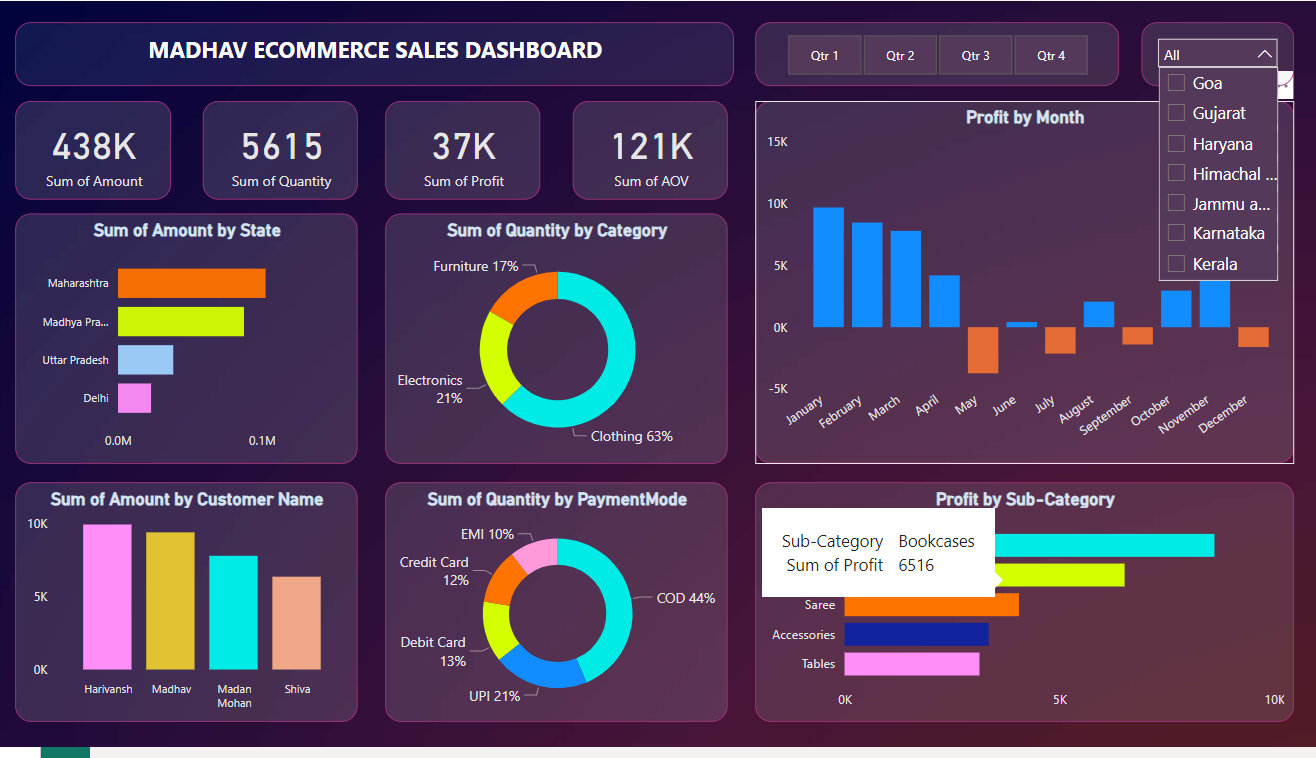

Layout of this report page (visuals, bound fields, positions):
{"tool":"powerbi","page":{"name":"Page 1","canvas":[1280,720],"ordinal":0},"visuals":[{"type":"textbox","box":[20.5,20.5,693.5,61.5],"z":0},{"type":"columnChart","title":"Profit by Month","fields":{"Category":["Orders.Order Date.Variation.Date Hierarchy.Month"],"Y":["Details.Profit"]},"box":[734.5,96.5,519.8,349.7],"z":1000},{"type":"barChart","title":"Profit by Sub-Category","fields":{"Category":["Details.Sub-Category"],"Y":["Details.Profit"]},"box":[734.5,464.3,519.8,231.6],"z":2000},{"type":"donutChart","fields":{"Category":["Details.Category"],"Y":["Details.Quantity"]},"box":[377.5,205,330.5,241.2],"z":3000},{"type":"donutChart","fields":{"Category":["Details.PaymentMode"],"Y":["Details.Quantity"]},"box":[377.5,464.3,330.5,231.6],"z":4000},{"type":"card","fields":{"Values":["Details.Amount"]},"box":[20.5,96.5,150,95.3],"z":5000},{"type":"card","fields":{"Values":["Details.Quantity"]},"box":[201.4,96.5,149.5,95.3],"z":6000},{"type":"card","fields":{"Values":["Details.Profit"]},"box":[377.5,96.5,149.5,95.3],"z":7000},{"type":"card","fields":{"Values":["Details.AOV"]},"box":[558.4,96.5,149.5,95.3],"z":8000},{"type":"barChart","title":"Sum of Amount by State ","fields":{"Category":["Orders.State"],"Series":["Orders.State"],"Y":["Details.Amount"]},"box":[20.5,205,330.5,241.2],"z":9000},{"type":"columnChart","fields":{"Category":["Orders.Customer Name"],"Y":["Details.Amount"]},"box":[20.5,464.3,330,231.6],"z":10000},{"type":"slicer","fields":{"Values":["Orders.Order Date.Variation.Date Hierarchy.Quarter"]},"box":[734.5,20.5,351,61.5],"z":11000},{"type":"slicer","fields":{"Values":["Orders.State"]},"box":[1107.1,20.5,147.1,61.5],"z":12000}]}

Visuals, with their boxes in screenshot pixels (x1, y1, x2, y2), scaled from the page's 1280x720 canvas onto the 1316x758 screenshot:
textbox: Rect(21, 22, 734, 86)
"Profit by Month" columnChart: Rect(755, 102, 1290, 470)
"Profit by Sub-Category" barChart: Rect(755, 489, 1290, 733)
donutChart - Details.Category x Details.Quantity: Rect(388, 216, 728, 470)
donutChart - Details.PaymentMode x Details.Quantity: Rect(388, 489, 728, 733)
card - Details.Amount: Rect(21, 102, 175, 202)
card - Details.Quantity: Rect(207, 102, 361, 202)
card - Details.Profit: Rect(388, 102, 542, 202)
card - Details.AOV: Rect(574, 102, 728, 202)
"Sum of Amount by State " barChart: Rect(21, 216, 361, 470)
columnChart - Orders.Customer Name x Details.Amount: Rect(21, 489, 360, 733)
slicer - Orders.Order Date.Variation.Date Hierarchy.Quarter: Rect(755, 22, 1116, 86)
slicer - Orders.State: Rect(1138, 22, 1289, 86)
